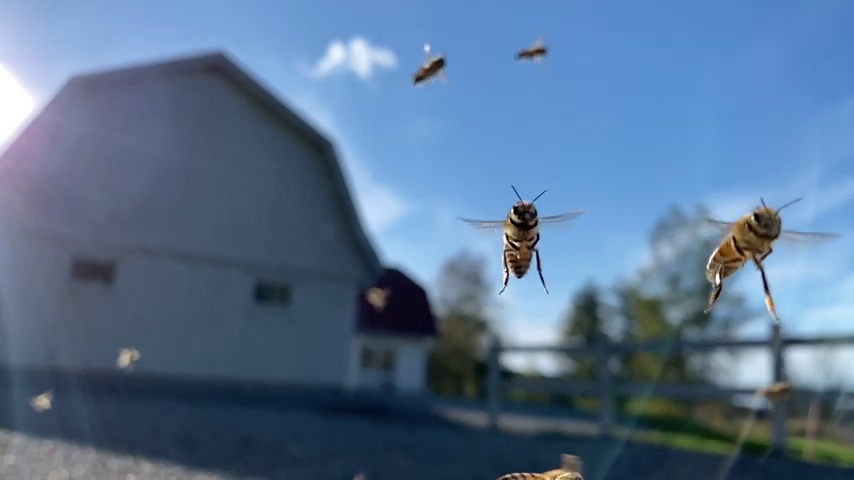insect: (691, 194, 839, 320), (462, 186, 582, 292), (408, 43, 451, 90), (513, 29, 552, 67)
